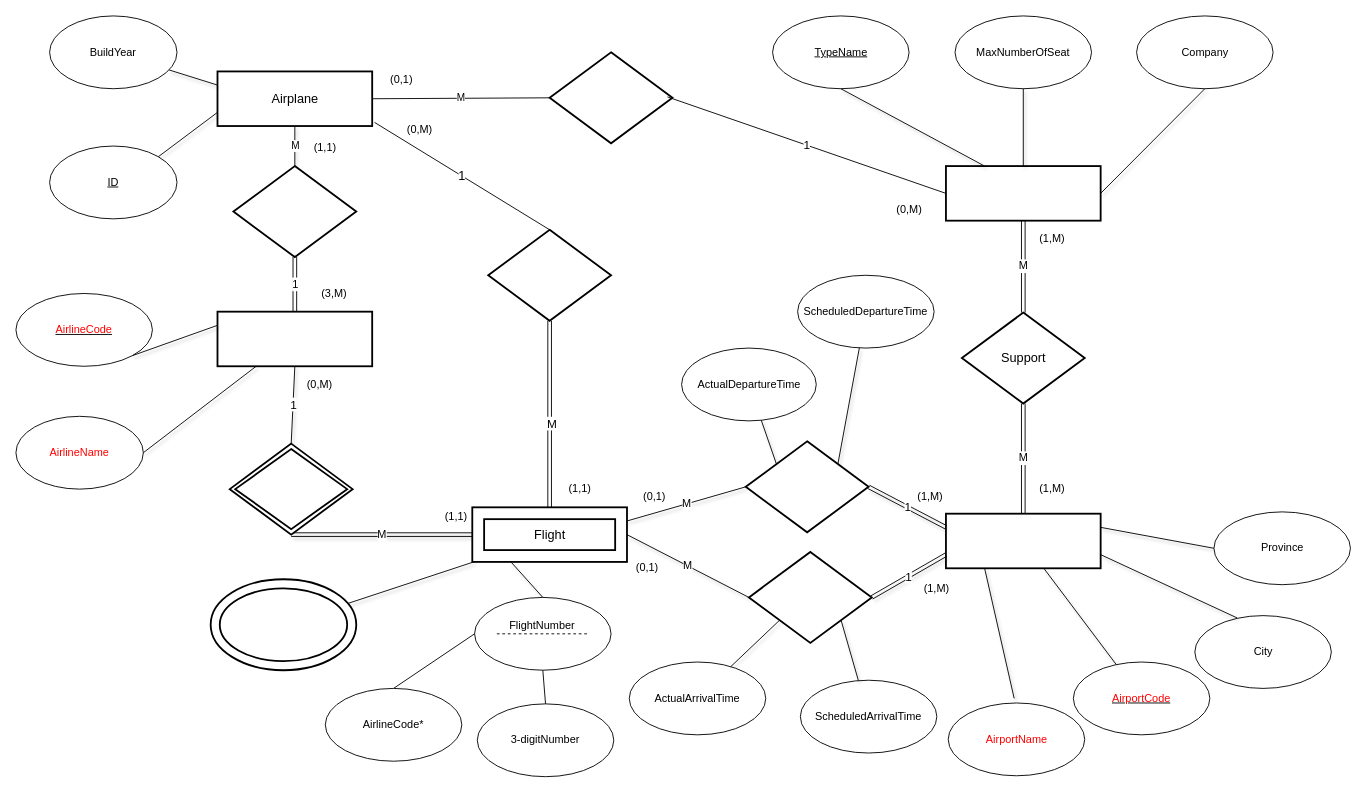
This 1367x793 diagram has some shape labels left out. Each missing label, with the centre of its shape:
"Airline" goes at [294,338].
"AirplaneType" goes at [1023,193].
"Airport" goes at [1023,540].
"Arrive" goes at [810,597].
"Assign" goes at [549,274].
"Depart" goes at [806,486].
"IsDesignedAs" goes at [610,97].
"Offer" goes at [290,488].
"OfferDate" goes at [283,624].
"Own" goes at [294,211].
